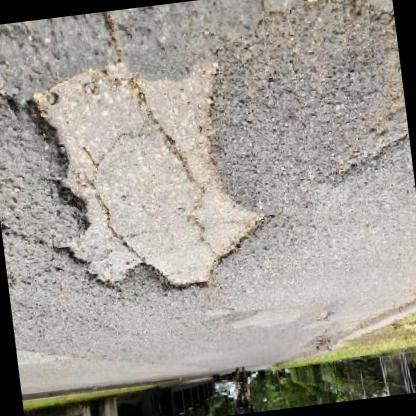pothole: (15, 49, 278, 314)
